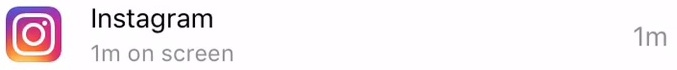name: (85, 3, 225, 37)
time: (86, 40, 127, 69)
